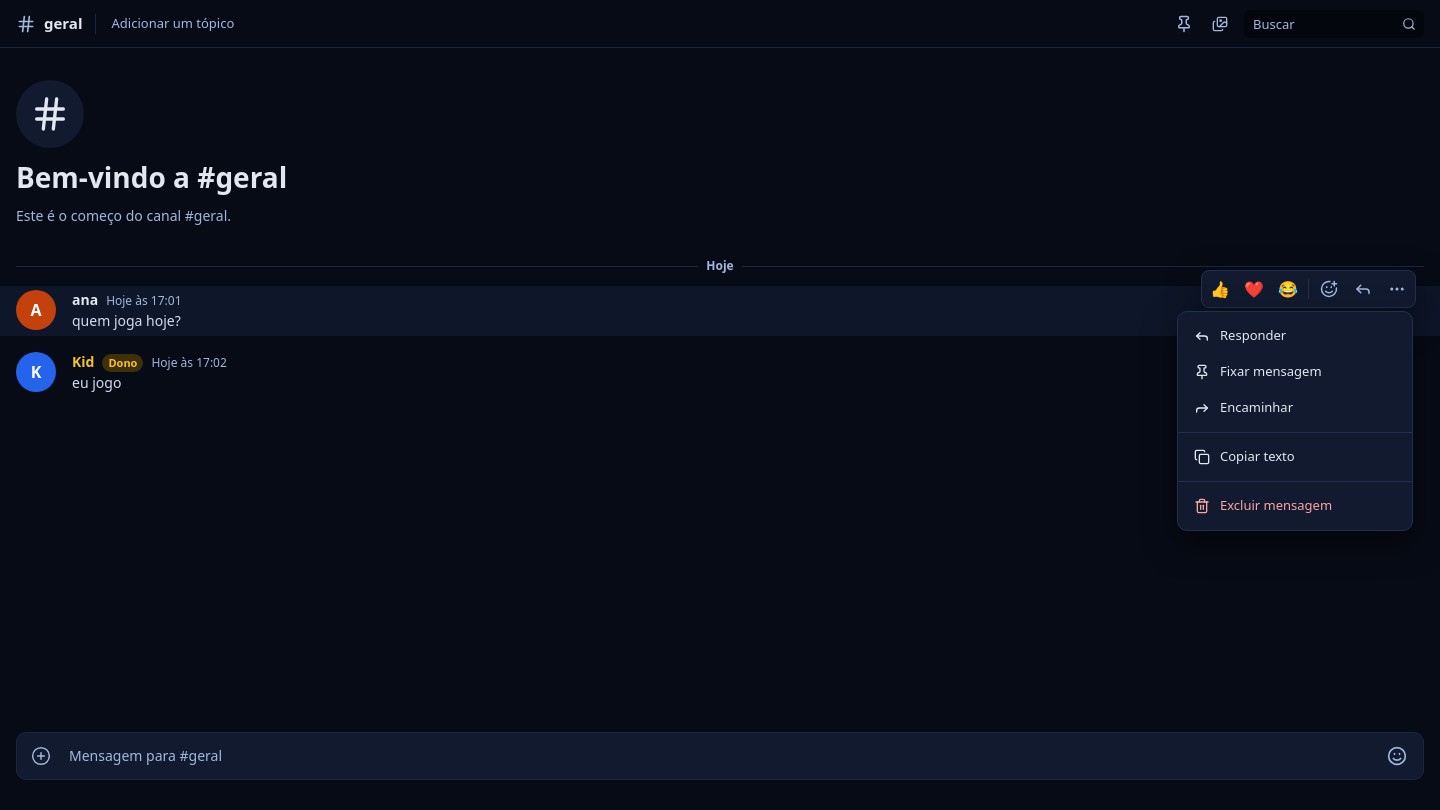
Test: as ações da mensagem › só a própria tem Editar; Esc cancela sem mandar nada
The image size is (1440, 810).
Earlier steps of the test are not shown.
Later steps or results of the test are not shown.
Check: the menu item "Responder" is shown, box [1194, 326, 1286, 344]
Press Escape
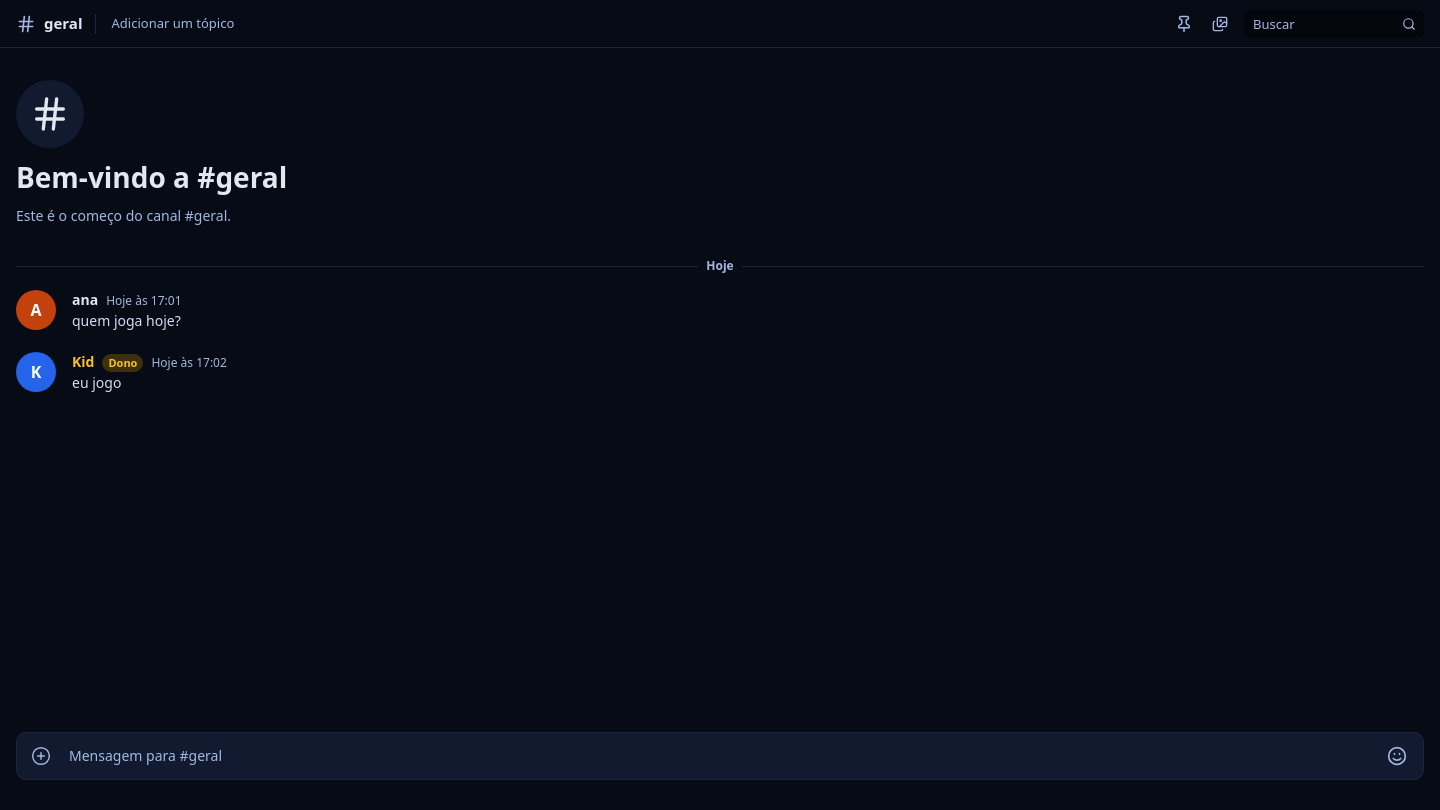
Click the text box labelled "Mensagem para #geral" at (719, 756), box [59, 733, 1379, 779]
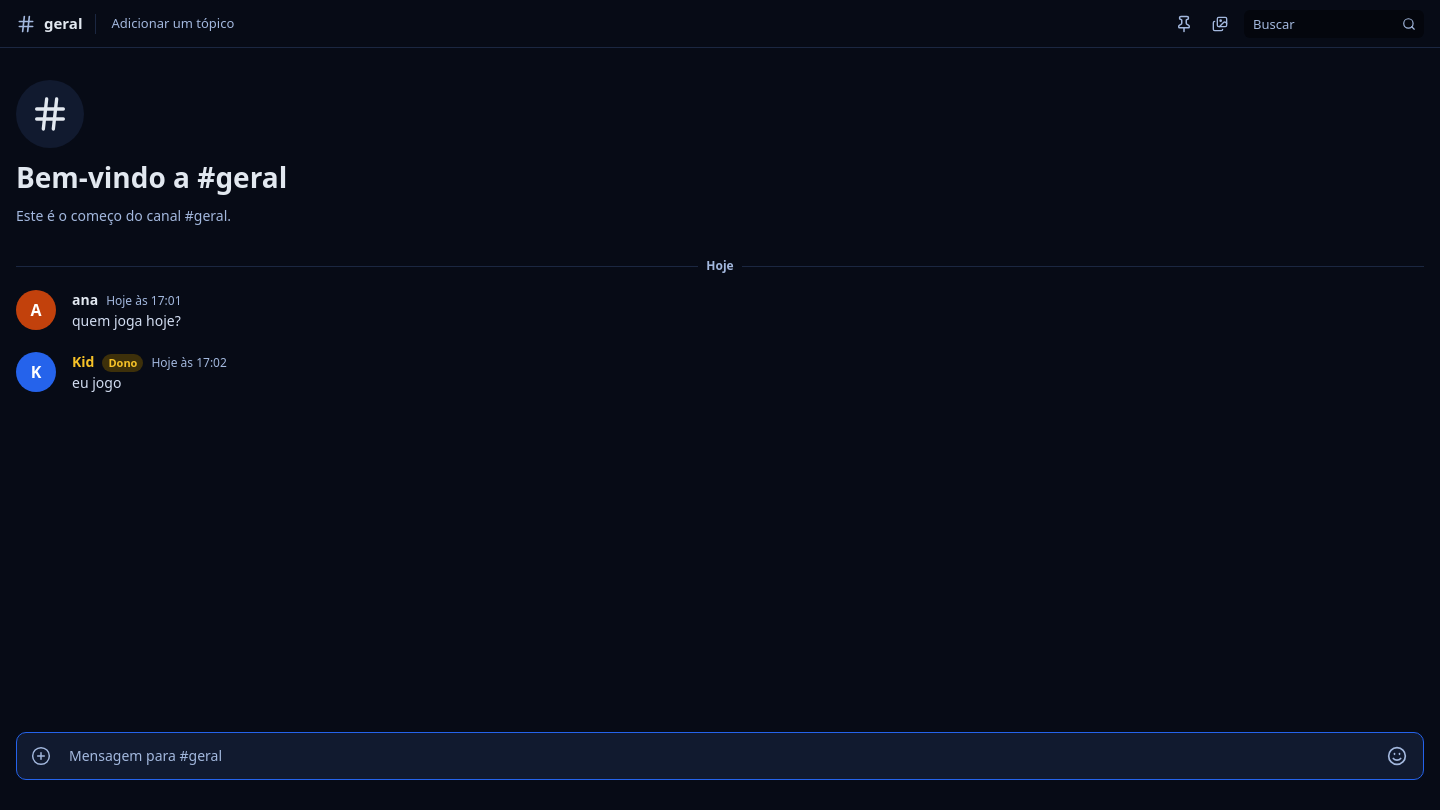
Press Arrowup
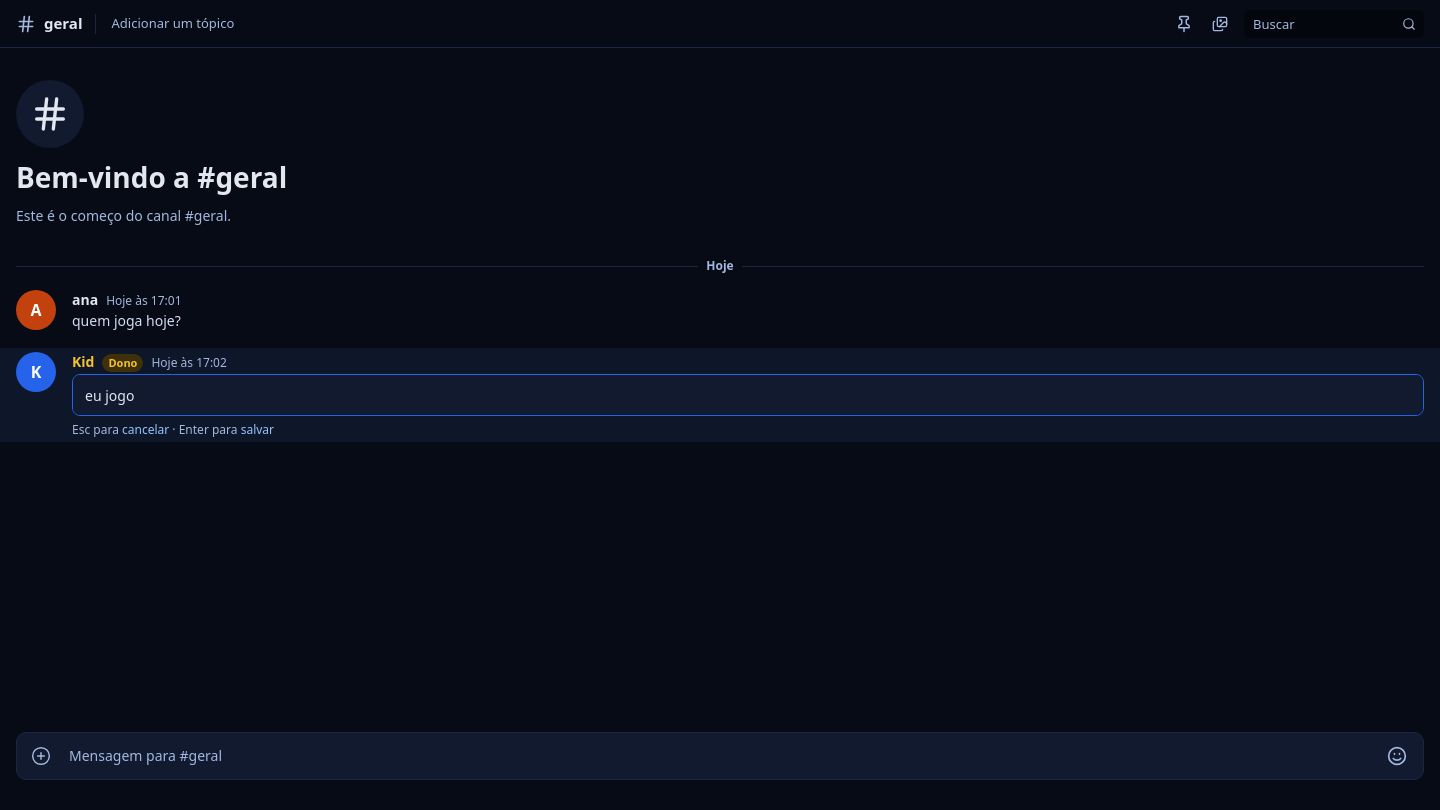
Check: the text box named "Editar mensagem" holds "eu jogo", box [72, 374, 1424, 416]
